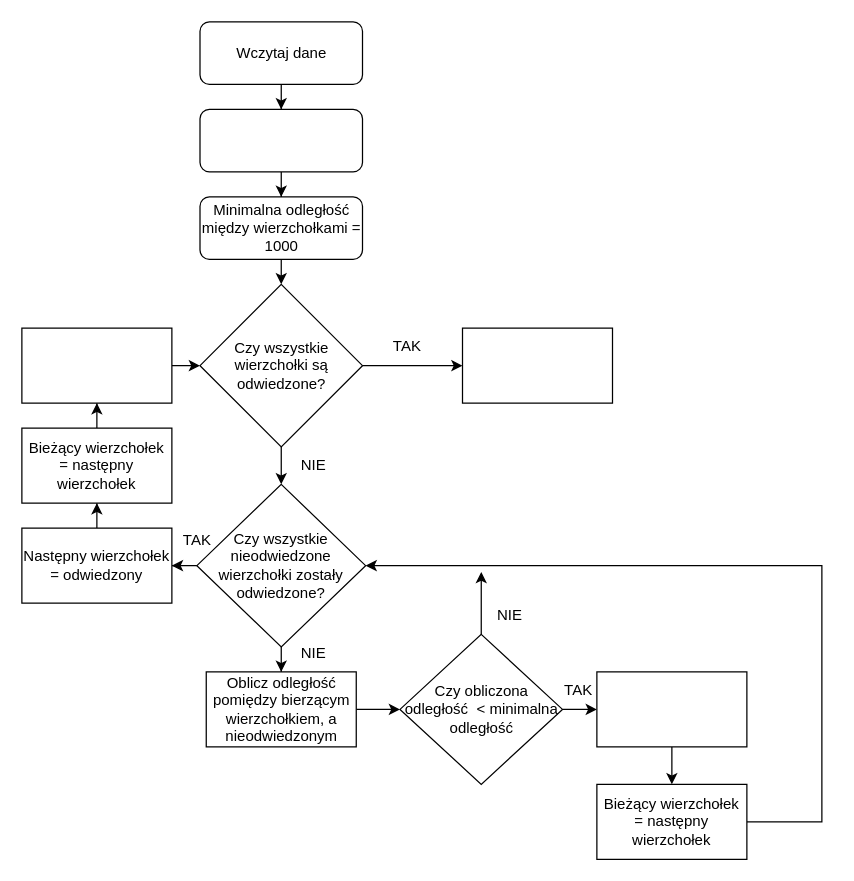
This 854x881 diagram has some shape labels left out. The box of each missing label's shape, as (x1, y1, x2, y2) in pixels:
Bierzący wierzchołek = pierwszy wierzchołek: (199, 108, 362, 172)
Minimalna odległość = 1000: (21, 327, 172, 403)
Minimalna odległość = obliczona odległość: (596, 671, 747, 747)
Zwróć listę odwiedzonych wierzchołków: (461, 327, 612, 403)
